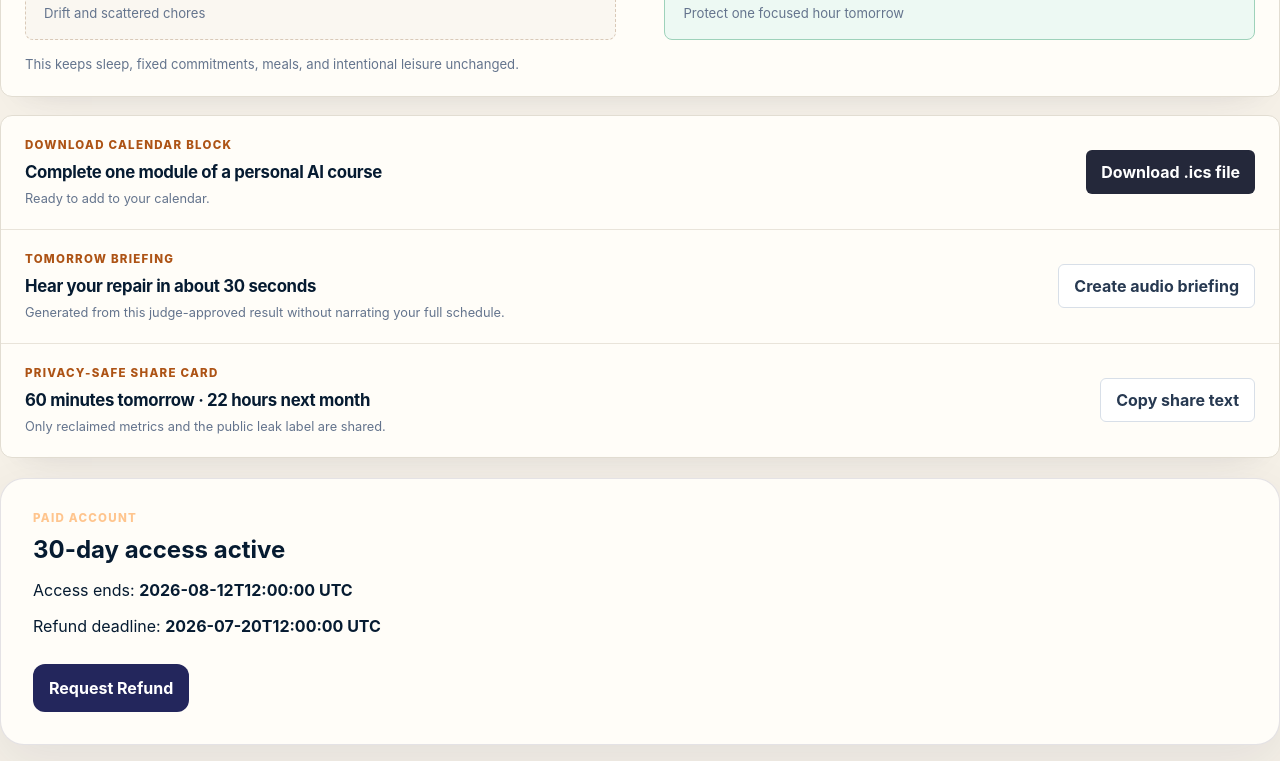
it: Phase 3 onboarding › shows the exact refund deadline and keeps access until refund confirmation
(page scrolled)
expect the heading "30-day access active" is shown: met, box x1=33 y1=535 x2=285 y2=564
expect the text "2026-07-20T12:00:00 UTC" is shown: met, box x1=165 y1=616 x2=381 y2=636
Click the button "Request Refund". click: (111, 688)
box: x1=33 y1=664 x2=189 y2=712
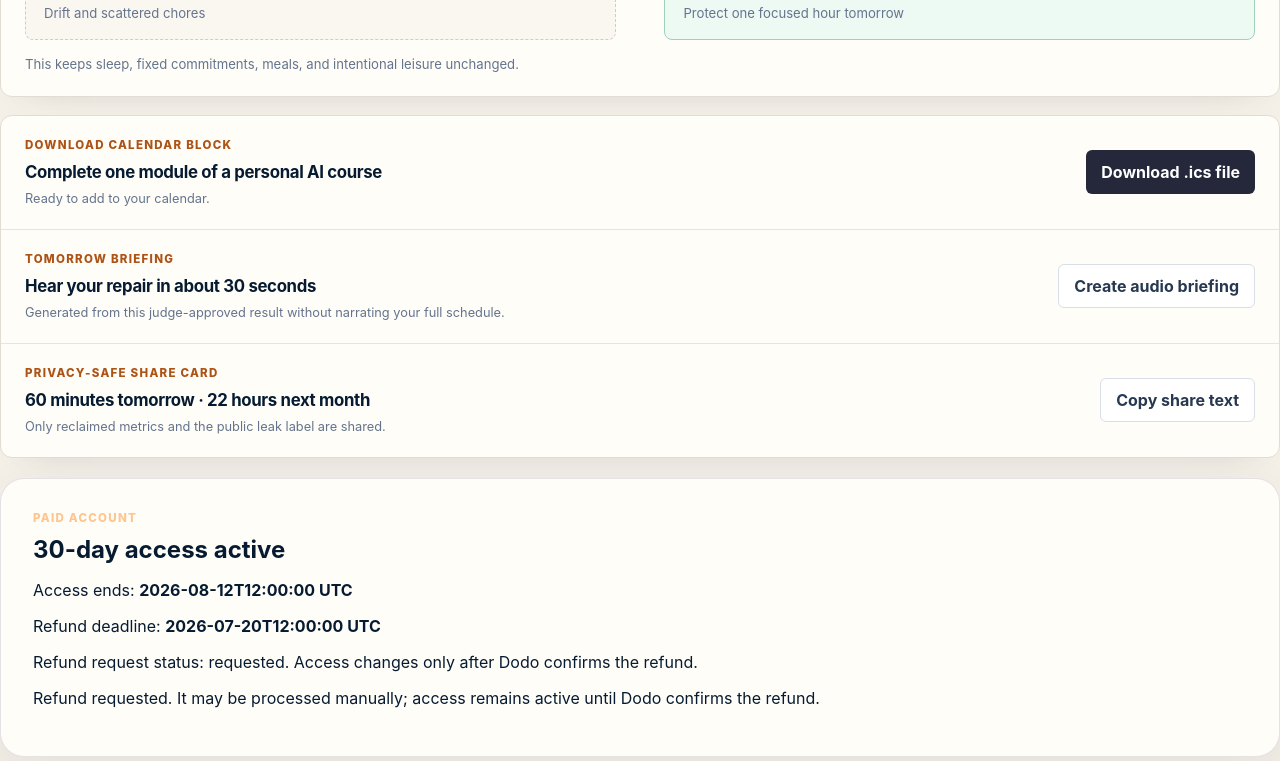
expect the heading "30-day access active" is shown: met, box x1=33 y1=535 x2=285 y2=564
expect the text "access remains active until Dodo confirms the refund" is shown: met, box x1=33 y1=688 x2=820 y2=708
